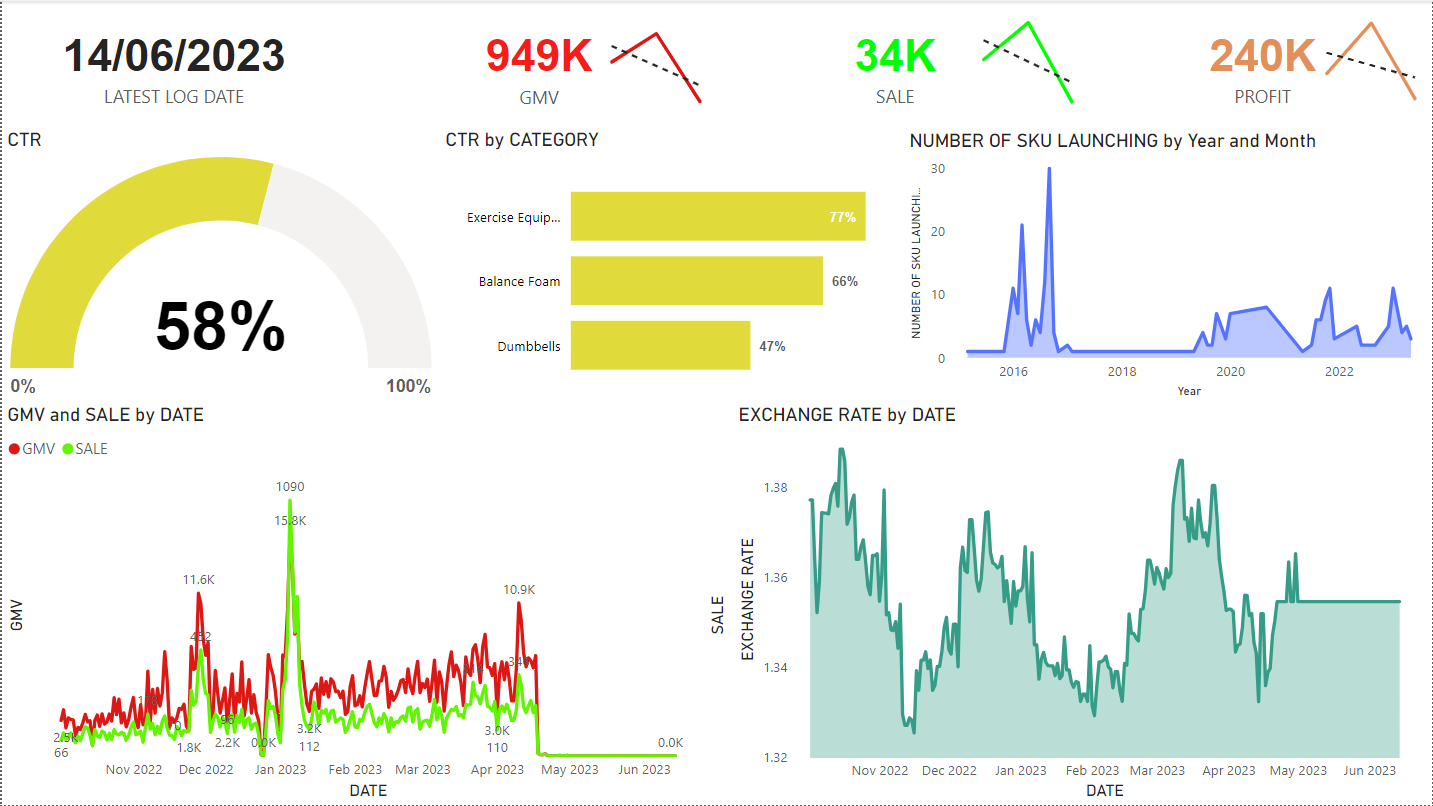

The dashboard page shown, as its layout file describes it:
{"tool":"powerbi","page":{"name":"Dashboard","canvas":[1280,720],"ordinal":0},"visuals":[{"type":"card","title":"TỪ NGÀY","fields":{"Values":["Max(product_data.log_date)"]},"box":[0,0,308.3,113.5],"z":0},{"type":"areaChart","fields":{"Y":["Count(product_data.sku)"],"Category":["product_data.launching_date.Variation.Date Hierarchy.Year","product_data.launching_date.Variation.Date Hierarchy.Month"]},"box":[807.8,114.4,472.2,245.6],"z":1000},{"type":"areaChart","fields":{"Category":["product_data.log_date"],"Y":["Max(product_data.exchange_rate)"]},"box":[654.4,360,625.6,360],"z":2000},{"type":"card","title":"TỪ NGÀY","fields":{"Values":["Sum(product_data.shipped_gmv)"]},"box":[308.3,0,345.8,114.6],"z":3000},{"type":"card","title":"TỪ NGÀY","fields":{"Values":["Sum(product_data.shipped_gross_profit)"]},"box":[977.8,0,302.2,114.4],"z":4000},{"type":"lineChart","fields":{"Y2":["Sum(product_data.real_sales)"],"Y":["Sum(product_data.shipped_gmv)"],"Category":["product_data.log_date"]},"box":[0,360,654.4,360],"z":5000},{"type":"card","title":"TỪ NGÀY","fields":{"Values":["Sum(product_data.real_sales)"]},"box":[640,0,319,114],"z":6000},{"type":"clusteredBarChart","fields":{"Y":["product_data.CTR"],"Category":["product_data.category"]},"box":[392.2,113.3,415.6,246.7],"z":7000},{"type":"gauge","fields":{"Y":["product_data.CTR"]},"box":[0,113.3,392.2,246.7],"z":8000},{"type":"lineChart","fields":{"Y":["Sum(product_data.shipped_gmv)"],"Category":["product_data.log_date.Variation.Date Hierarchy.Year","product_data.log_date.Variation.Date Hierarchy.Quarter"]},"box":[531.1,0,108.9,113.3],"z":9000},{"type":"lineChart","fields":{"Category":["product_data.log_date.Variation.Date Hierarchy.Year","product_data.log_date.Variation.Date Hierarchy.Quarter"],"Y":["Sum(product_data.real_sales)"]},"box":[864.4,0,108.9,113.3],"z":10000},{"type":"lineChart","fields":{"Category":["product_data.log_date.Variation.Date Hierarchy.Year","product_data.log_date.Variation.Date Hierarchy.Quarter"]},"box":[1171.1,1.1,108.9,113.3],"z":11000},{"type":"lineChart","fields":{"Category":["product_data.log_date.Variation.Date Hierarchy.Year","product_data.log_date.Variation.Date Hierarchy.Quarter"],"Y":["Sum(product_data.shipped_gross_profit)"]},"box":[1171.1,0,108.9,113.3],"z":12000}]}

Visuals, with their boxes in screenshot pixels (x1, y1, x2, y2), scaled from the page's 1280x720 canvas onto the 1433x806 screenshot:
"TỪ NGÀY" card: x1=0 y1=0 x2=345 y2=127
areaChart - Count(product_data.sku) x product_data.launching_date.Variation.Date Hierarchy.Year: x1=904 y1=128 x2=1432 y2=403
areaChart - product_data.log_date x Max(product_data.exchange_rate): x1=733 y1=403 x2=1432 y2=805
"TỪ NGÀY" card: x1=345 y1=0 x2=732 y2=128
"TỪ NGÀY" card: x1=1095 y1=0 x2=1432 y2=128
lineChart - Sum(product_data.real_sales) x Sum(product_data.shipped_gmv): x1=0 y1=403 x2=733 y2=805
"TỪ NGÀY" card: x1=716 y1=0 x2=1074 y2=128
clusteredBarChart - product_data.CTR x product_data.category: x1=439 y1=127 x2=904 y2=403
gauge - product_data.CTR: x1=0 y1=127 x2=439 y2=403
lineChart - Sum(product_data.shipped_gmv) x product_data.log_date.Variation.Date Hierarchy.Year: x1=595 y1=0 x2=716 y2=127
lineChart - product_data.log_date.Variation.Date Hierarchy.Year x product_data.log_date.Variation.Date Hierarchy.Quarter: x1=968 y1=0 x2=1090 y2=127
lineChart - product_data.log_date.Variation.Date Hierarchy.Year x product_data.log_date.Variation.Date Hierarchy.Quarter: x1=1311 y1=1 x2=1432 y2=128
lineChart - product_data.log_date.Variation.Date Hierarchy.Year x product_data.log_date.Variation.Date Hierarchy.Quarter: x1=1311 y1=0 x2=1432 y2=127
